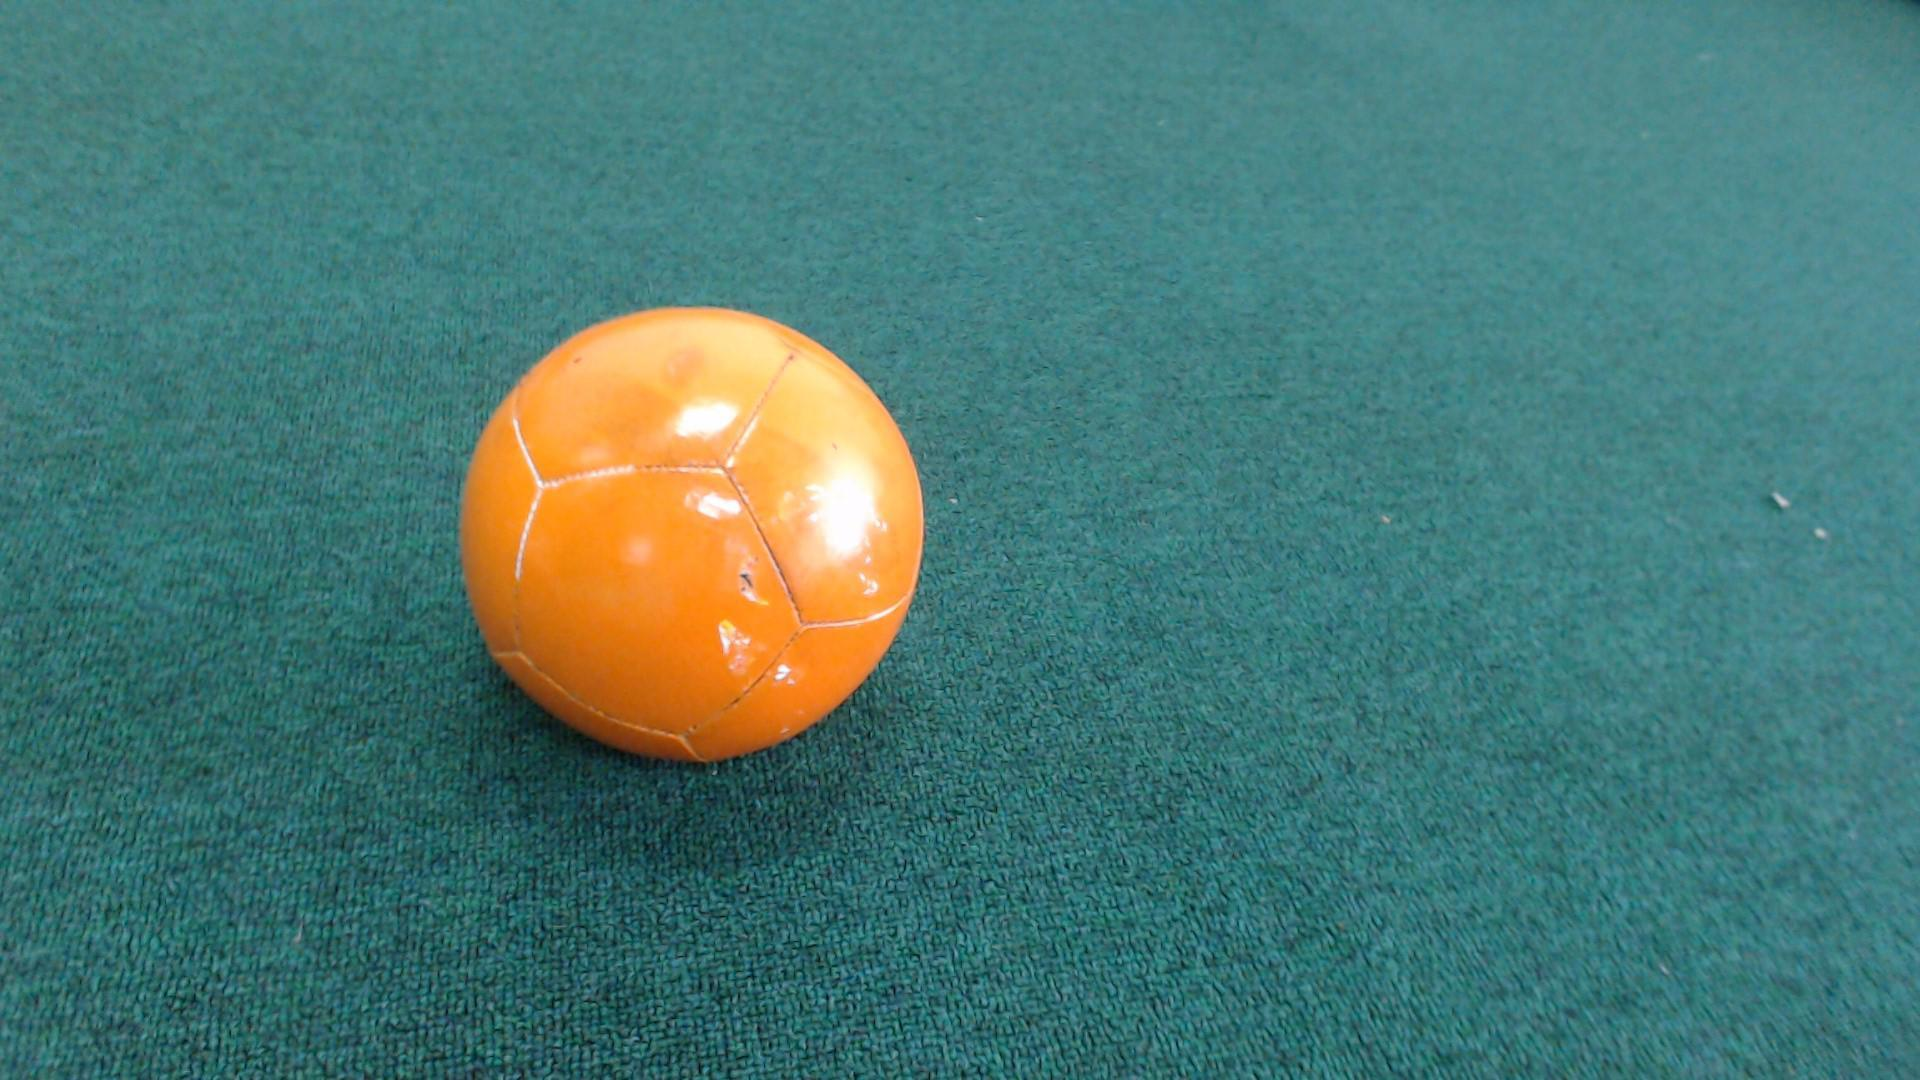bola: (434, 276, 969, 782)
